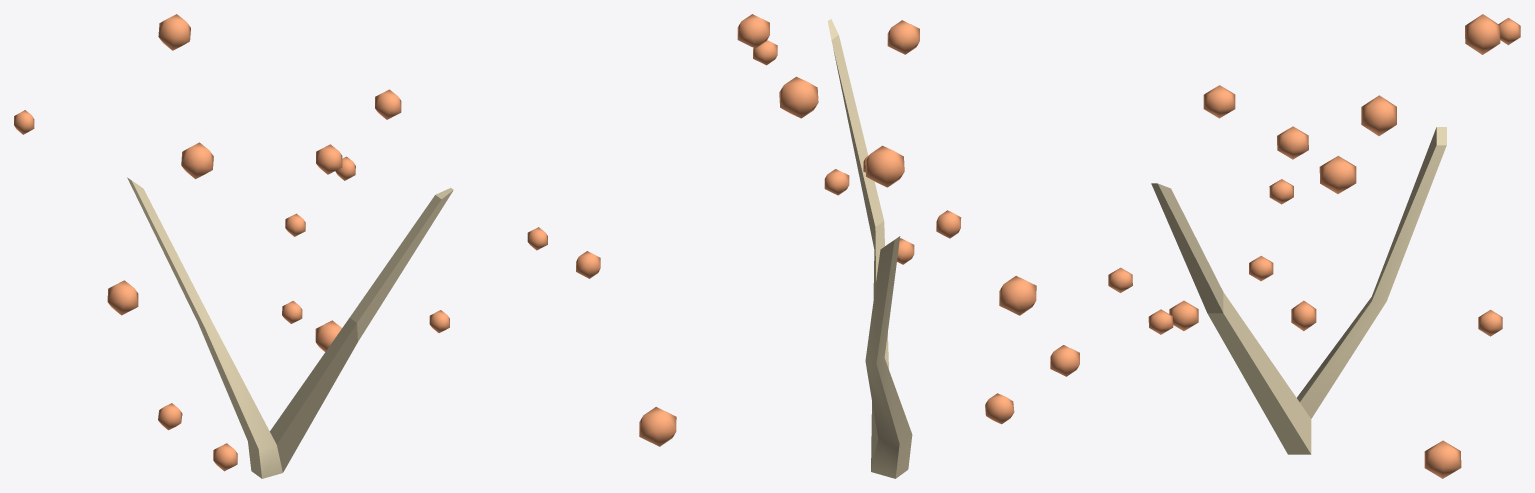
3 views of the same model, side by side, from view 1: azimuth 30°, elevation 25°; view 2: azimuth 150°, elevation 25°; view 3: azimuth 270°, elevation 25° (orthographic). The views are drawn at different scales.
Visible parts, largest first — view 1: Box072, Sphere329, Sphere330, Sphere327, Sphere332, Sphere331; view 2: Box072, Sphere329, Sphere330, Sphere327, Sphere337, Sphere332, Sphere331, Sphere340, Sphere336, Sphere328, Sphere335; view 3: Box072, Sphere329, Sphere330, Sphere337, Sphere327, Sphere331, Sphere332, Sphere340, Sphere336, Sphere335, Sphere339, Sphere334 (+3 smaller).
Boxes of the visible parts, box(x1,y1,x2,y2) form: Box072: box(127, 177, 453, 478); Sphere329: box(181, 142, 213, 178); Sphere330: box(158, 14, 190, 50); Sphere327: box(107, 280, 138, 315); Sphere332: box(375, 89, 401, 119); Sphere331: box(316, 144, 342, 174); Box072: box(827, 19, 912, 478); Sphere329: box(865, 145, 904, 187); Sphere330: box(779, 76, 818, 118); Sphere327: box(999, 276, 1036, 315); Sphere337: box(639, 407, 676, 446); Sphere332: box(737, 14, 769, 48); Sphere331: box(887, 20, 919, 54); Sphere340: box(1050, 345, 1079, 376); Sphere336: box(985, 393, 1014, 424); Sphere328: box(936, 210, 961, 238); Sphere335: box(576, 251, 600, 278); Box072: box(1151, 127, 1446, 454); Sphere329: box(1361, 95, 1396, 135); Sphere330: box(1465, 14, 1500, 54); Sphere337: box(1424, 440, 1461, 478); Sphere327: box(1319, 156, 1356, 193); Sphere331: box(1203, 85, 1235, 118); Sphere332: box(1277, 126, 1308, 159); Sphere340: box(1169, 300, 1198, 330); Sphere336: box(1291, 300, 1316, 330); Sphere335: box(1478, 309, 1502, 336); Sphere339: box(1148, 309, 1173, 334); Sphere334: box(1249, 256, 1273, 281).
Size of the model in its own units: 7.37 by 7.85 by 6.85.
